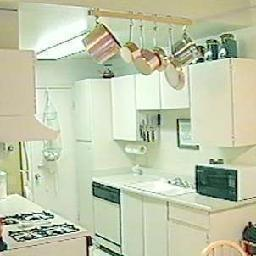Electrodomestico: (3, 214, 90, 255), (94, 182, 123, 253)
Lavaplatos: (126, 180, 196, 199)
